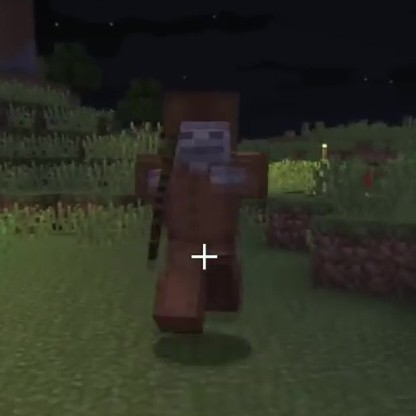skeleton: (153, 89, 255, 331)
